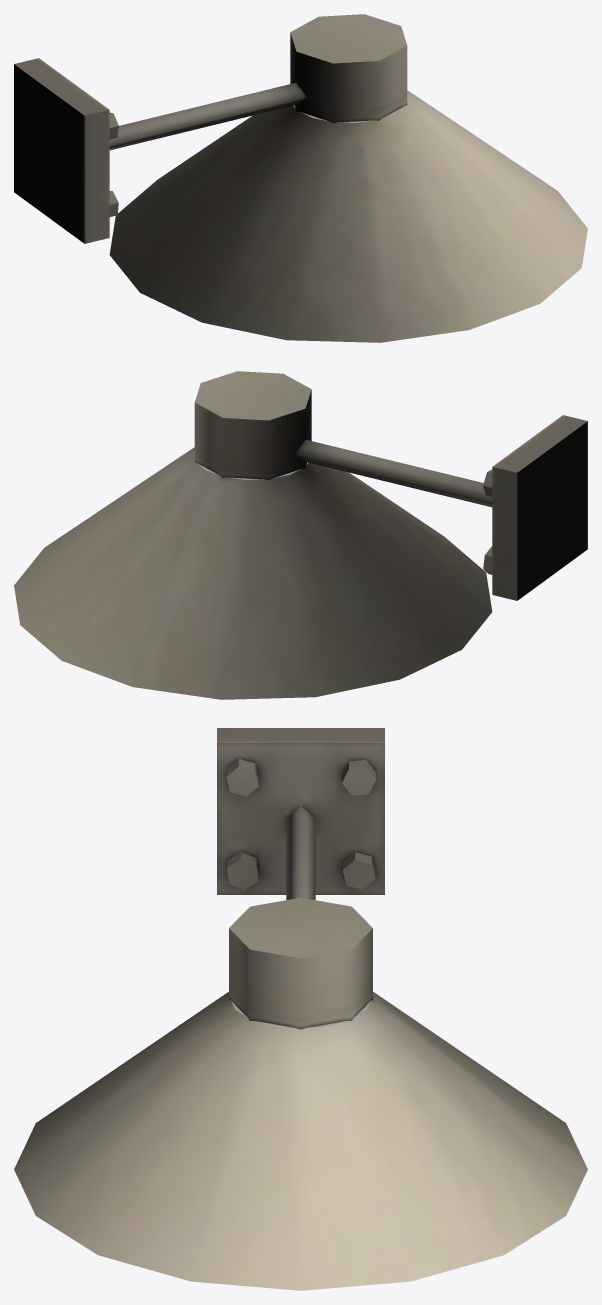
The picture shows the model from 3 angles, top to bottom: view 1: azimuth 30°, elevation 25°; view 2: azimuth 150°, elevation 25°; view 3: azimuth 270°, elevation 25°; orthographic projection. The views are drawn at different scales.
Visible parts, largest first — view 1: body0_model0_lod0_mesh0; view 2: body0_model0_lod0_mesh0; view 3: body0_model0_lod0_mesh0.
Boxes of the visible parts, box(x1,y1,x2,y2) form: body0_model0_lod0_mesh0: box(14, 14, 587, 342); body0_model0_lod0_mesh0: box(14, 371, 587, 699); body0_model0_lod0_mesh0: box(14, 728, 587, 1290).
Size of the model in its own units: 52.5 by 22.19 by 43.15.
1 material, 1 textured.
